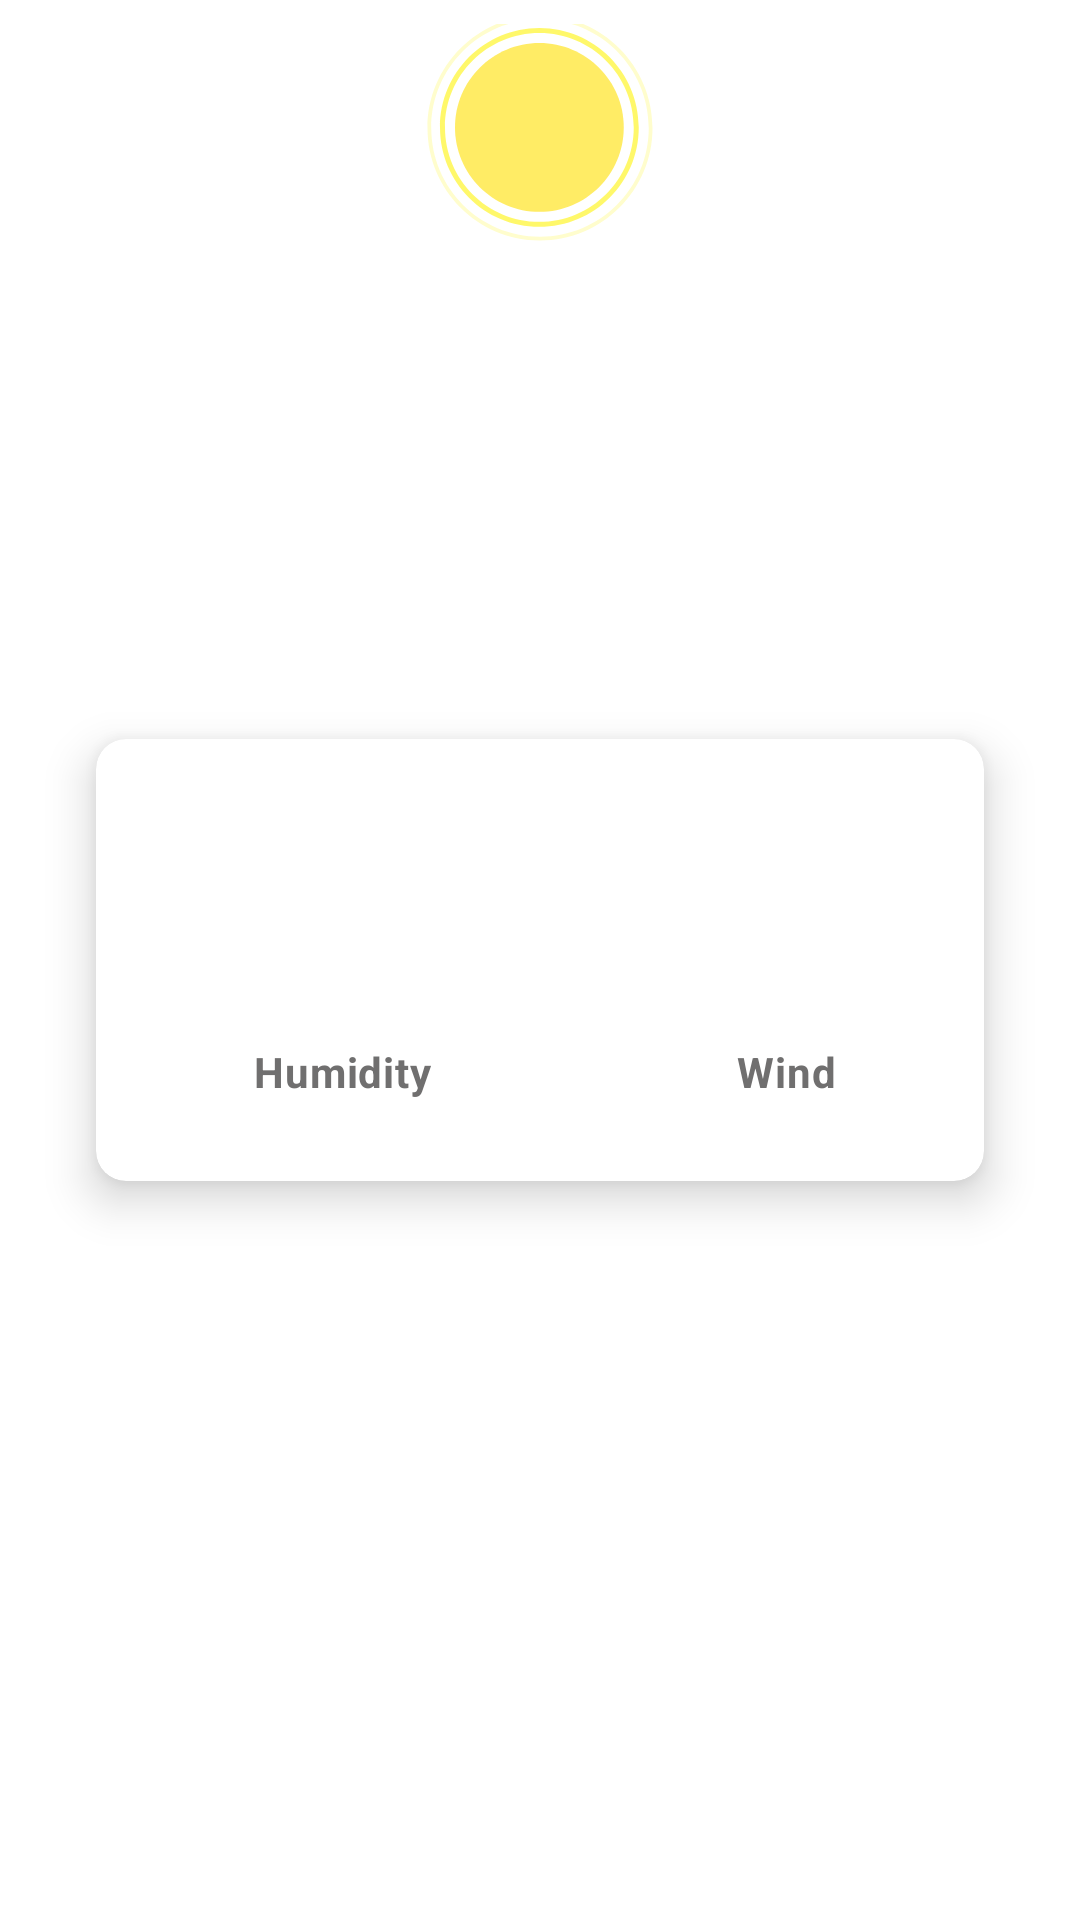

Icons on this 1080x1920 Android screen, each with the point to tap as point (x, y):
clear day: point (539, 132)
